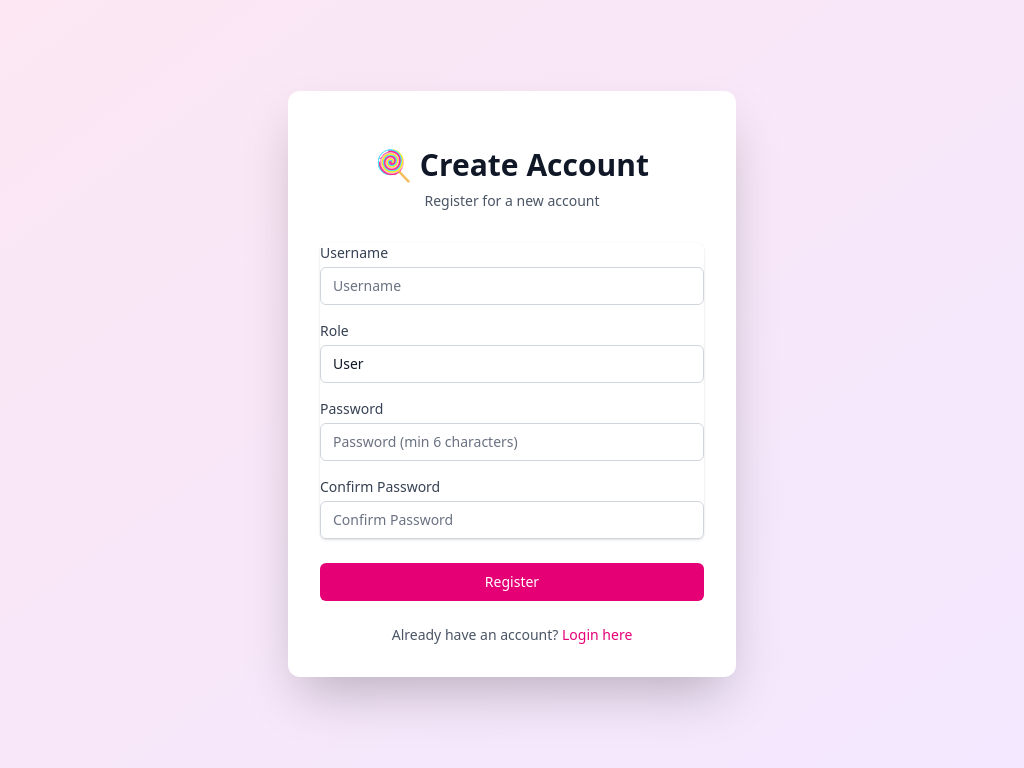
it: Register Page › should show error if username is too short
Type "ab" into the field labelled "Username". click: point(512, 286)
box: [320, 267, 704, 305]
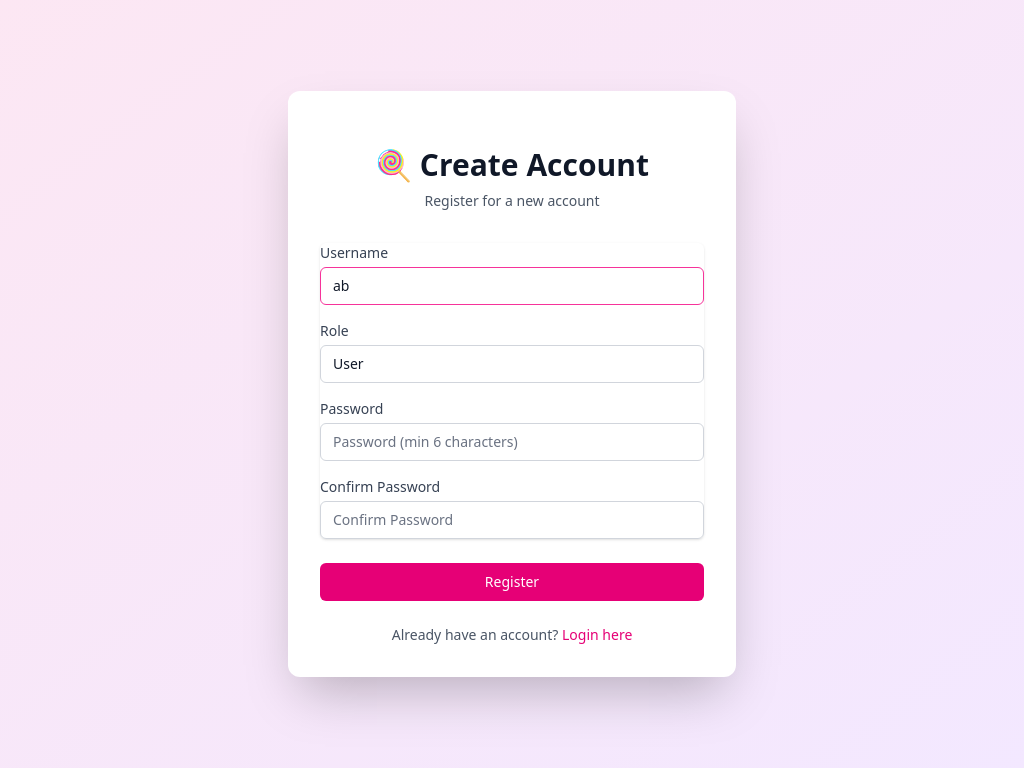
Type "password123" into the password field with placeholder "Password (min 6 characters)". click: point(512, 442)
box: [320, 423, 704, 461]
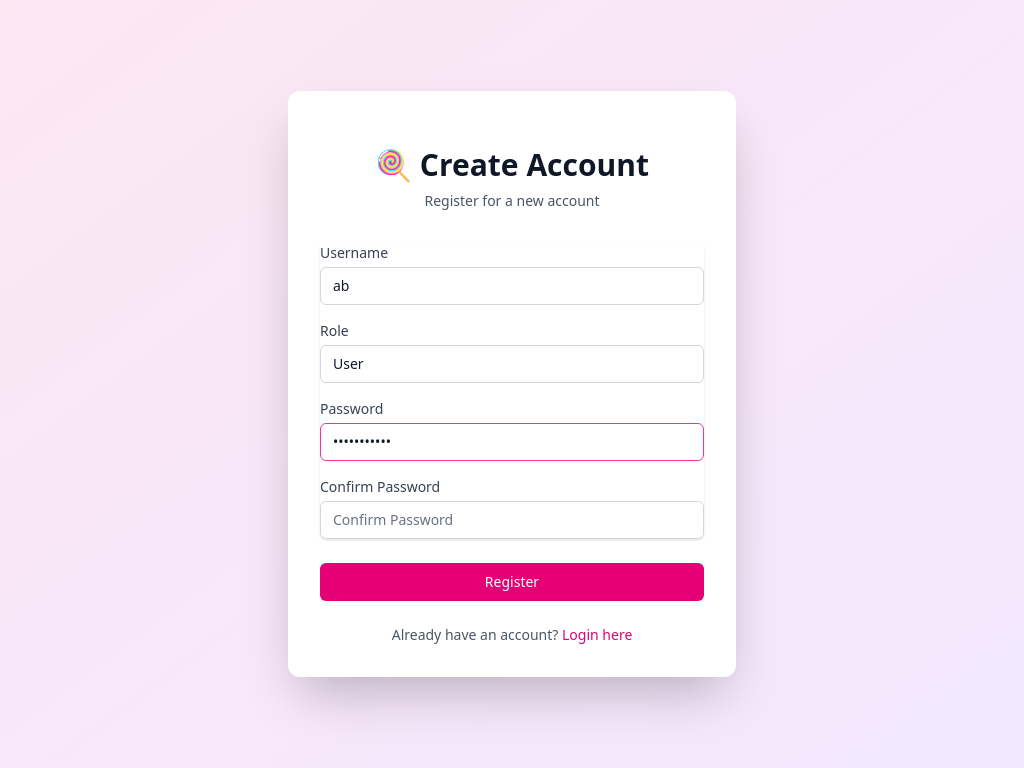
Type "password123" into the password field with placeholder "Confirm Password". click: point(512, 520)
box: [320, 501, 704, 539]
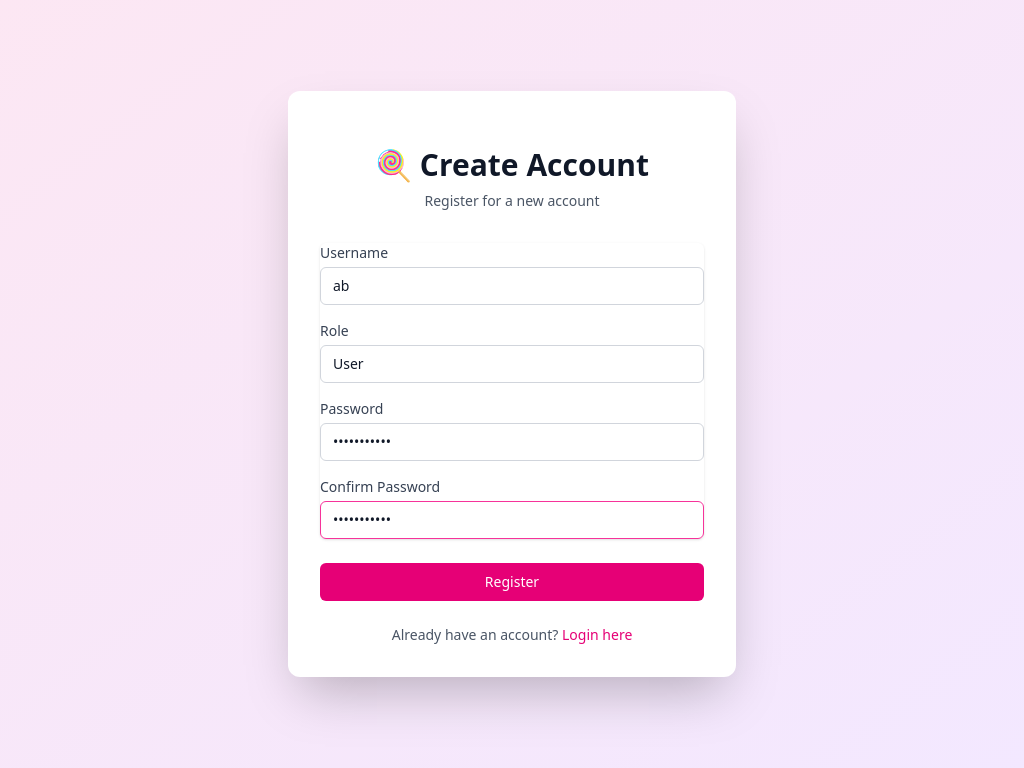
Click the button "Register". click: point(512, 582)
box: [320, 563, 704, 601]
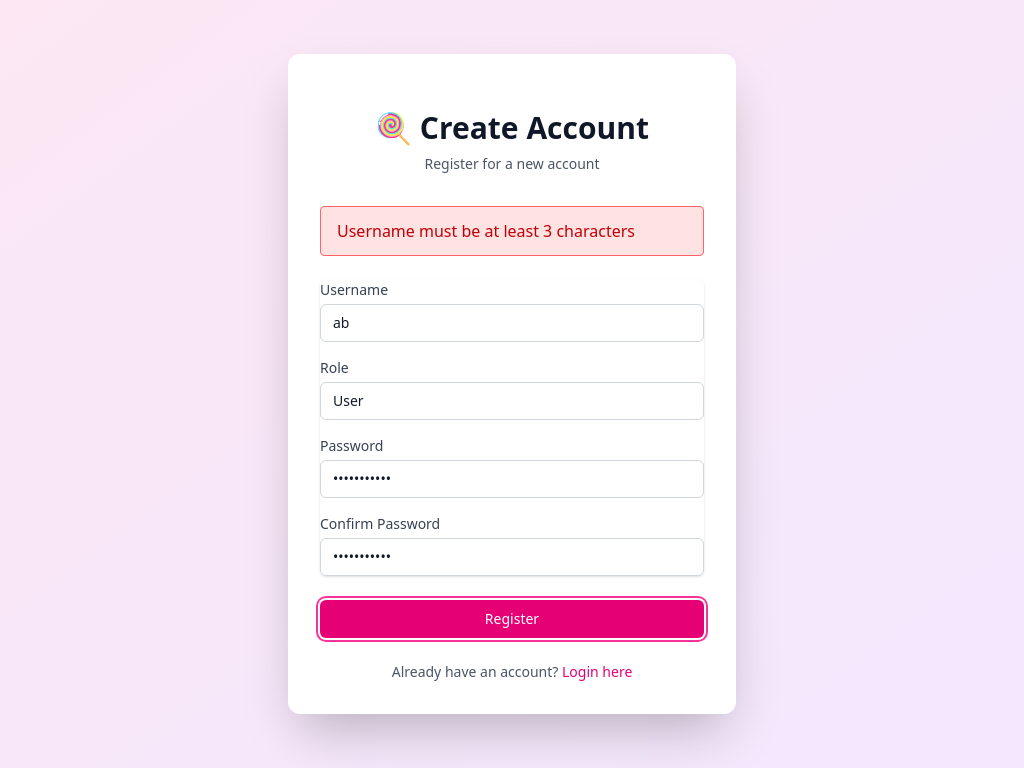
Now the text "Username must be at least 3 characters" is shown, box [320, 206, 704, 256]
